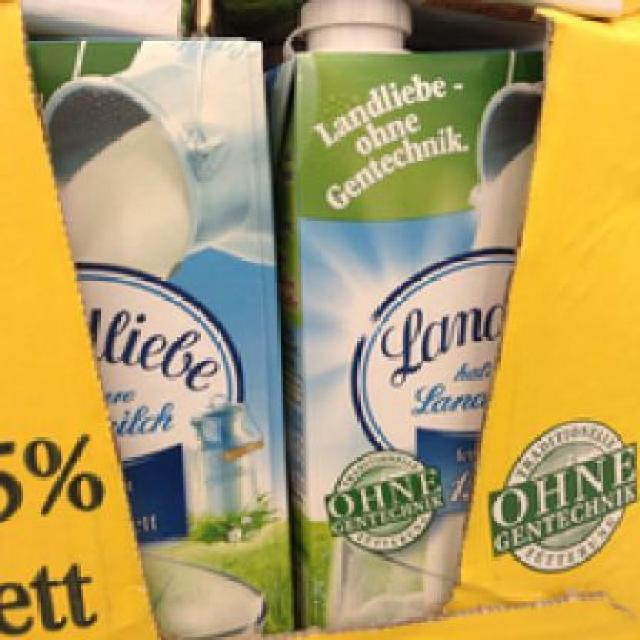Milk: (9, 32, 302, 638), (274, 0, 554, 629)
